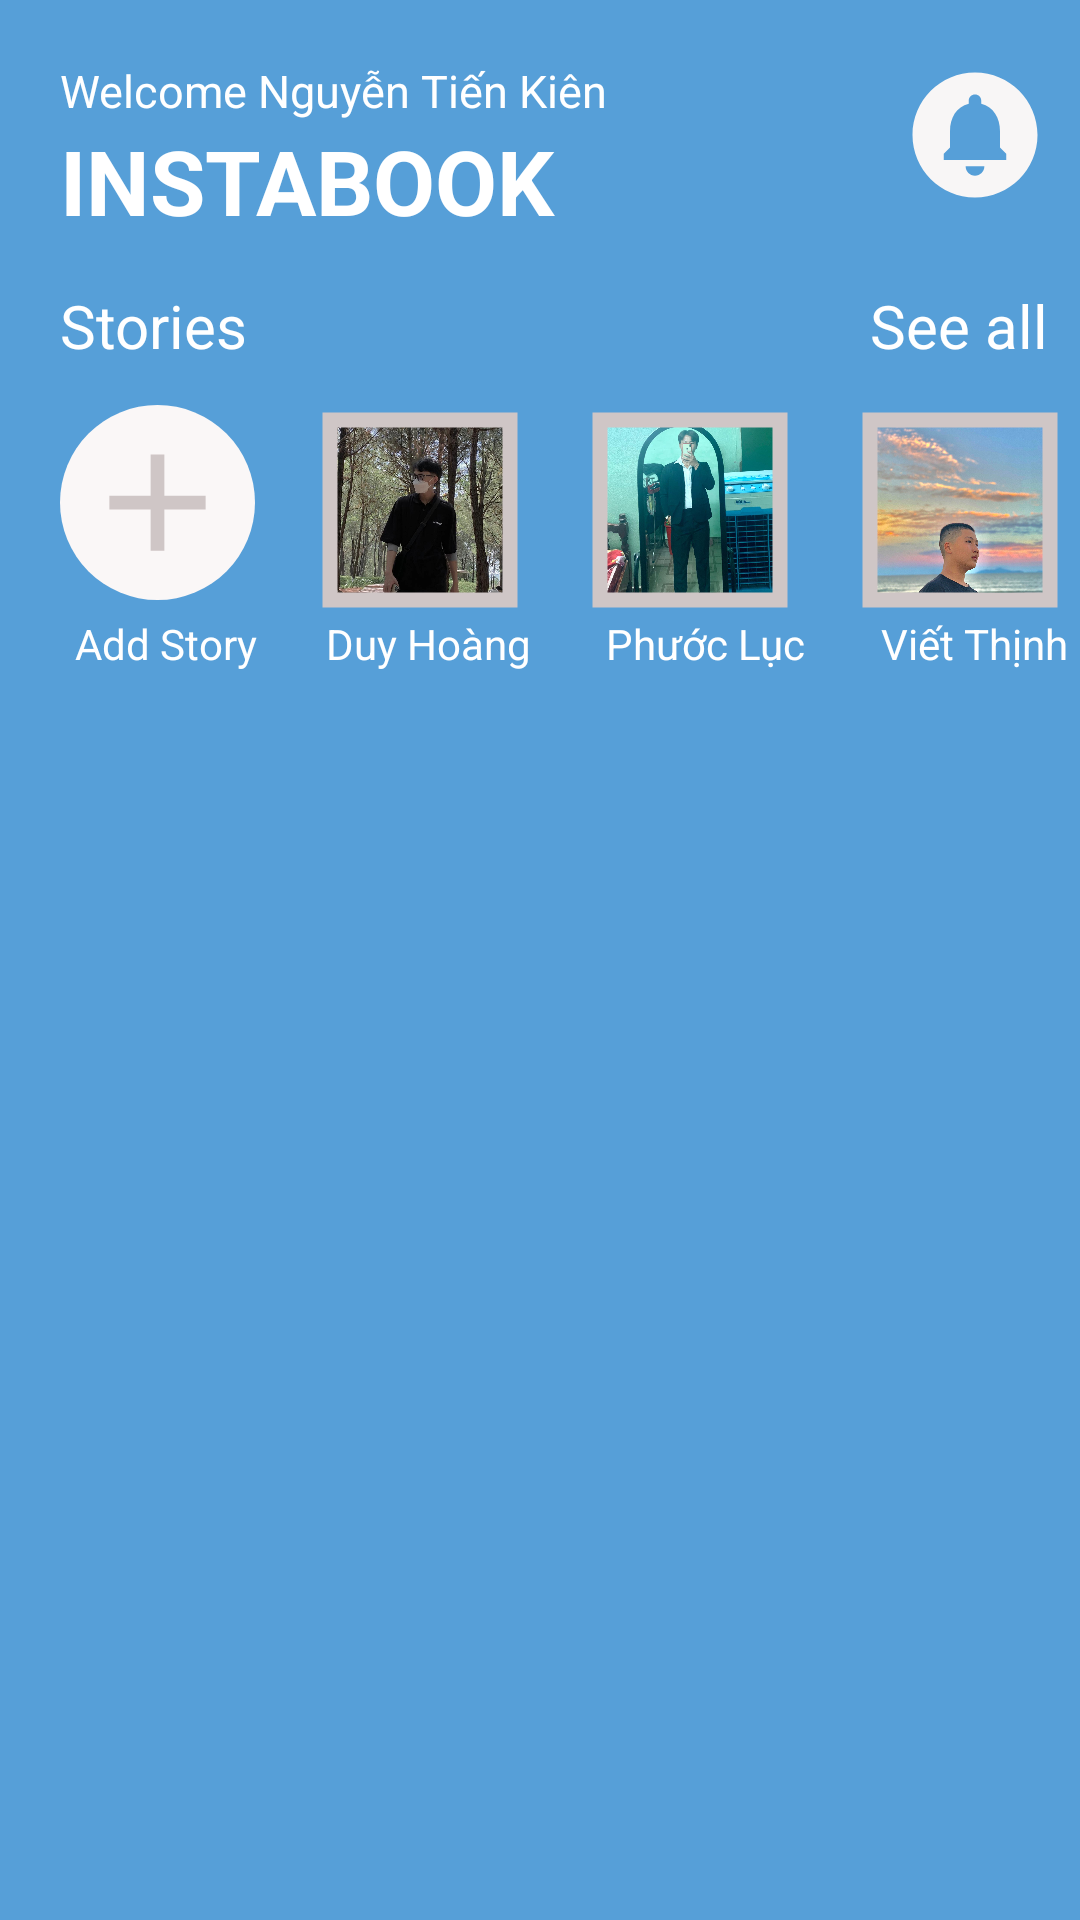

Icon bounding boxes for this 1080w x 1920h phone screenshot, format [x1, y1, x2, y2]:
hinh: [322, 412, 518, 608], [592, 412, 788, 608], [862, 412, 1058, 608]
thongbao: [912, 72, 1038, 198]
